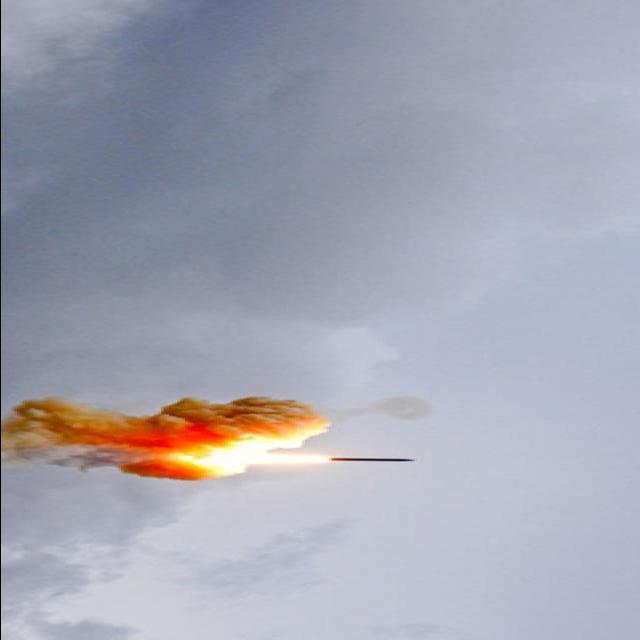Missile: (323, 455, 421, 464)
